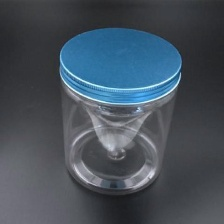plastic_box: (49, 21, 188, 201)
